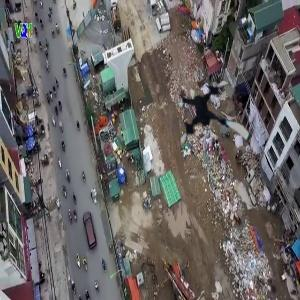drone: (170, 77, 257, 164)
